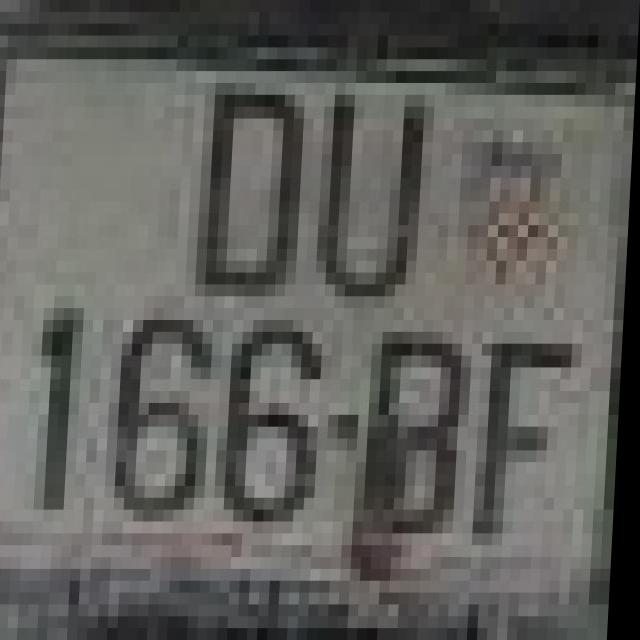1: (29, 296, 88, 522)
6: (109, 308, 217, 510), (239, 332, 326, 522)
B: (358, 332, 476, 534)
D: (177, 94, 326, 308)
F: (477, 332, 586, 569)
U: (317, 94, 446, 308)
